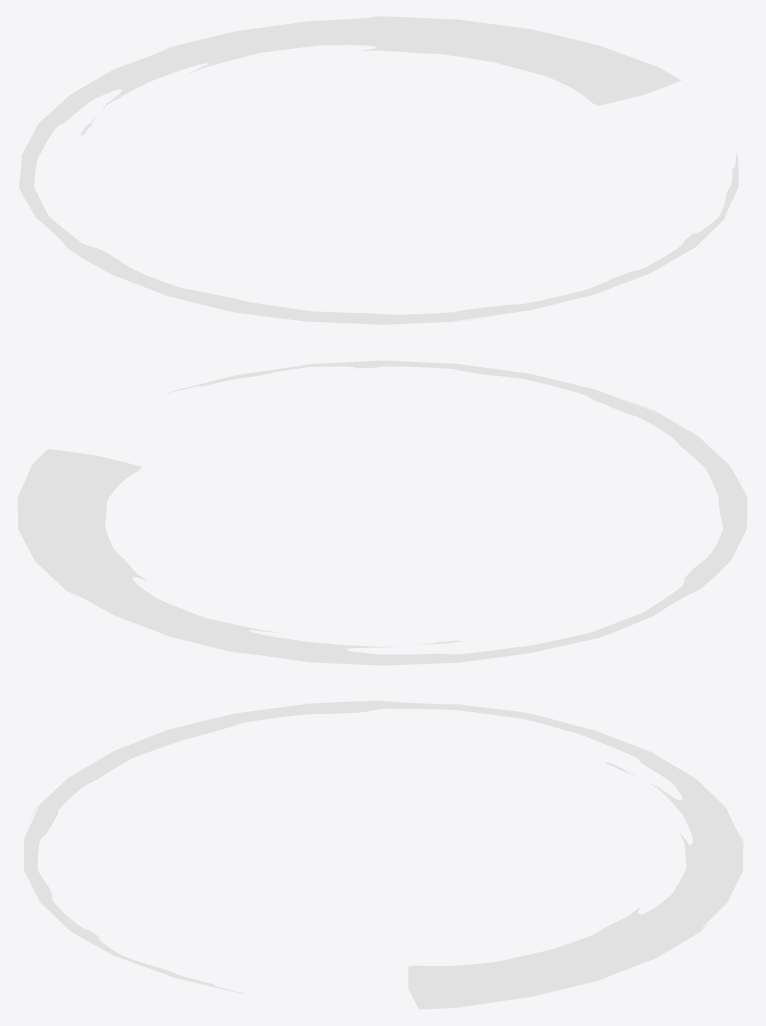
File: VFX_Circle1.FBX
The picture shows the model from 3 angles, top to bottom: view 1: azimuth 30°, elevation 25°; view 2: azimuth 150°, elevation 25°; view 3: azimuth 270°, elevation 25°; orthographic projection.
Visible parts, largest first — view 1: Circle; view 2: Circle; view 3: Circle.
Boxes of the visible parts, left/top/right/bottom form: Circle: left=19, top=16, right=738, bottom=324; Circle: left=17, top=360, right=747, bottom=665; Circle: left=23, top=701, right=743, bottom=1009.
Size of the model in its own units: 112 by 2.05e-05 by 111.
